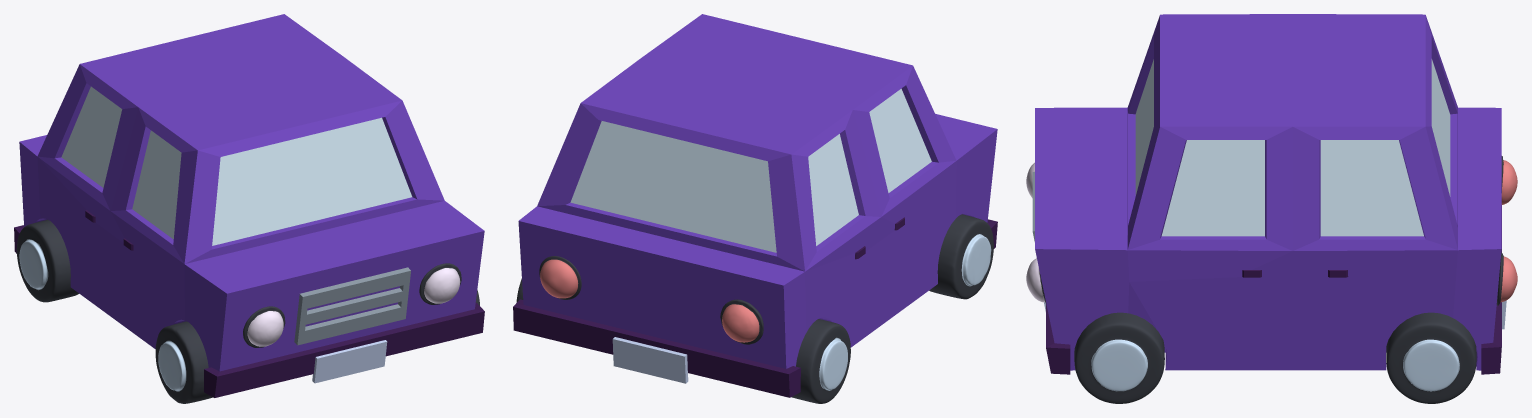
Rendered from purple_car.fbx.
3 renders of one model, left to right at view 1: azimuth 30°, elevation 25°; view 2: azimuth 150°, elevation 25°; view 3: azimuth 270°, elevation 25°, orthographic. The views are drawn at different scales.
Parts seen in each view (by area): view 1: car, wheels, plate; view 2: car, wheels, plate; view 3: car, wheels.
Part boxes in pixels (left/top/right/bottom): car: left=14, top=14, right=484, bottom=397; wheels: left=16, top=219, right=479, bottom=403; plate: left=294, top=267, right=410, bottom=383; car: left=513, top=14, right=997, bottom=397; wheels: left=516, top=214, right=993, bottom=403; plate: left=612, top=337, right=688, bottom=383; car: left=1035, top=14, right=1501, bottom=374; wheels: left=1026, top=156, right=1517, bottom=403.
Bounding box in the file's own units: 235 × 173 × 300.
